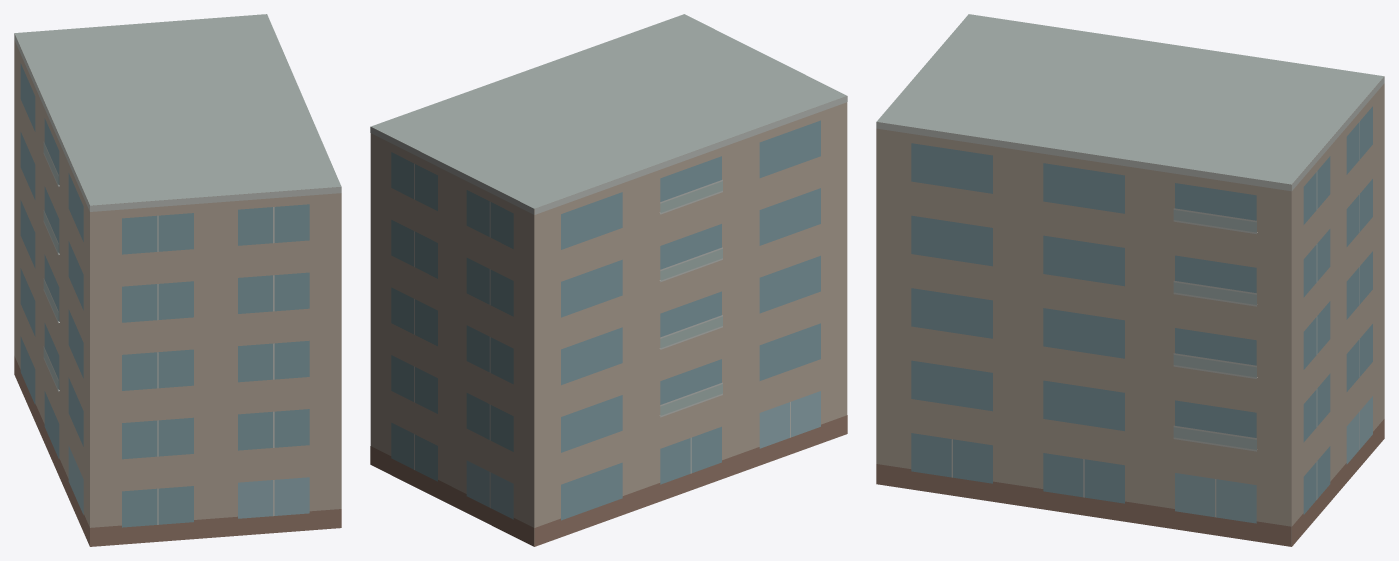
The model's file is survey-upis-32893529.glb.
The picture shows the model from 3 angles, left to right: view 1: azimuth 30°, elevation 25°; view 2: azimuth 150°, elevation 25°; view 3: azimuth 270°, elevation 25°; orthographic projection. The views are drawn at different scales.
Visible parts, largest first — view 1: survey-upis-32893529.tmp; view 2: survey-upis-32893529.tmp; view 3: survey-upis-32893529.tmp.
Boxes of the visible parts, <box> form: survey-upis-32893529.tmp: <box>14,14,341,546</box>; survey-upis-32893529.tmp: <box>370,14,847,546</box>; survey-upis-32893529.tmp: <box>876,14,1384,546</box>.
Size of the model in its own units: 13.23 by 13.1 by 16.66.
